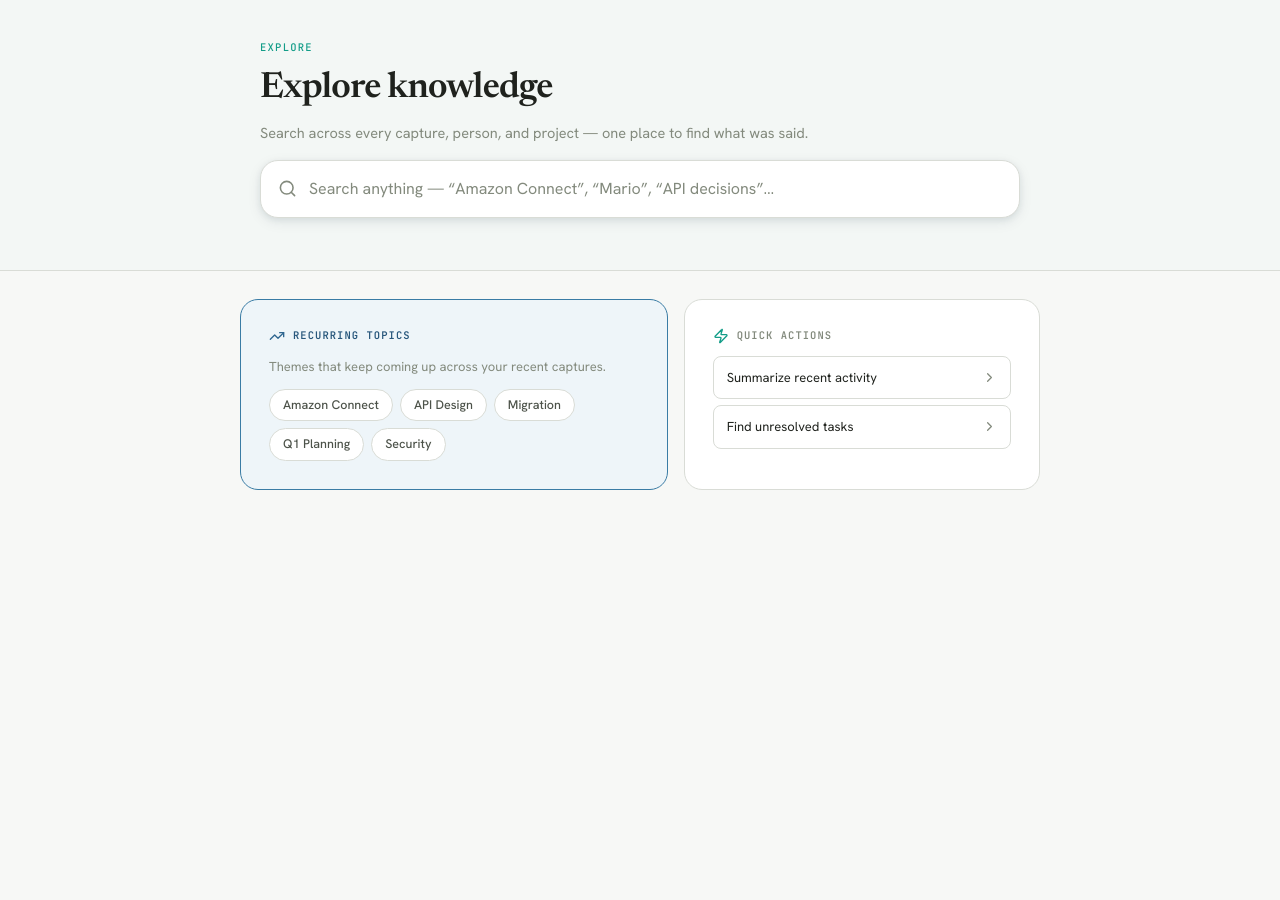
Test: Explore Page › should clear search error when query changes
Step 1. Replace the text in the field with placeholder "Search anything" with "failing query" → (640, 188), box [260, 160, 1020, 218]
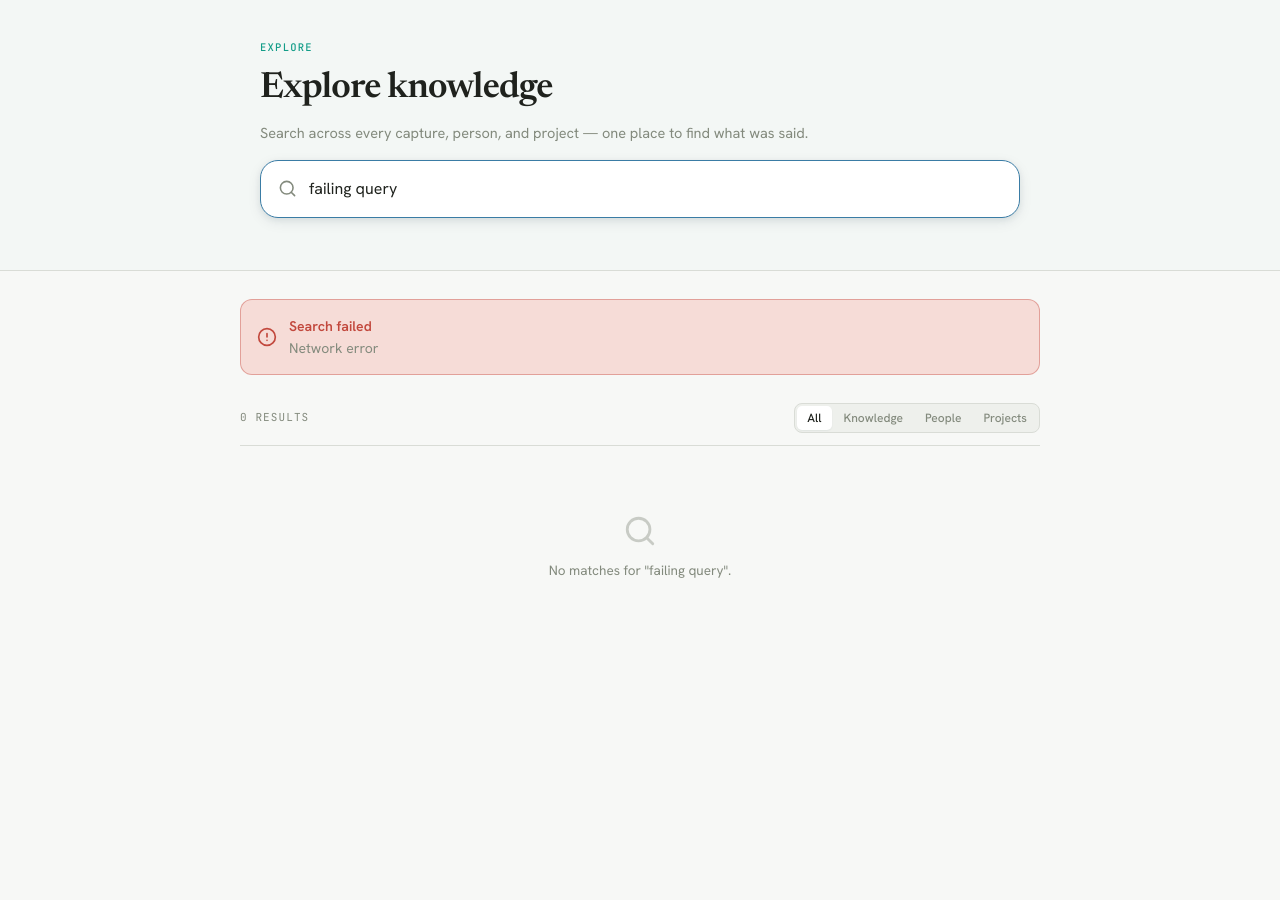
Result: the text "Search failed" is shown at [289, 316, 378, 336]
Now type a new query - error should be cleared before new results come in
Step 2. Replace the text in the field with placeholder "Search anything" with "new query" → (640, 188), box [260, 160, 1020, 218]
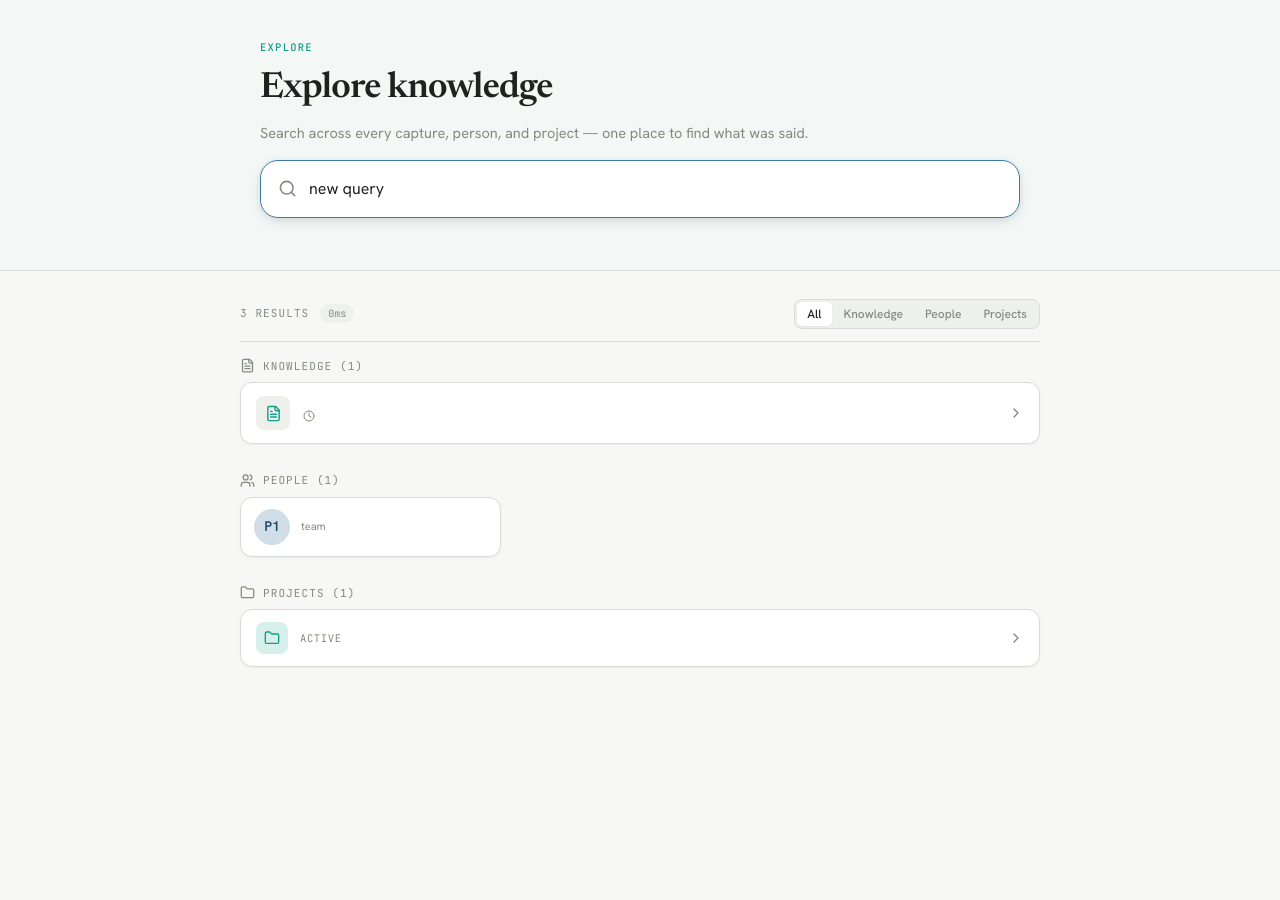
Result: the text "Network error" is gone
